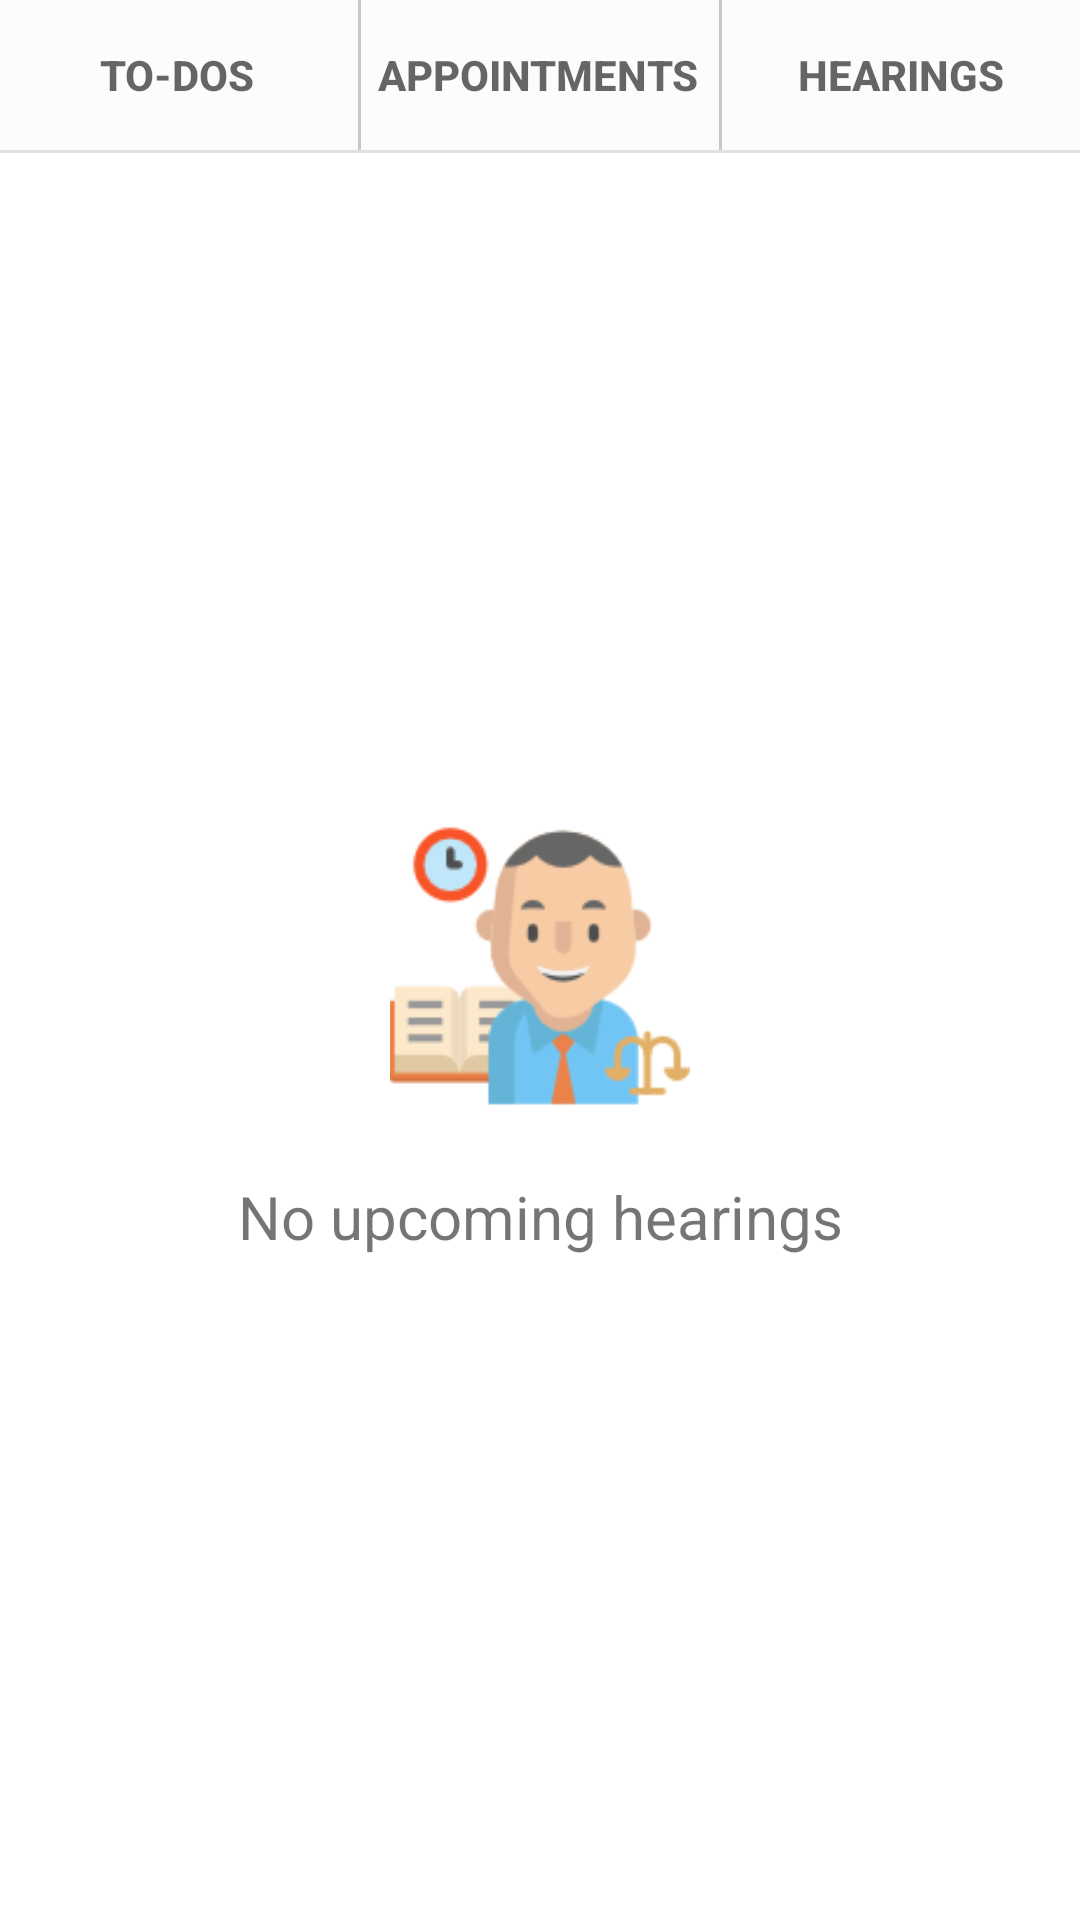

Icon click points for this 1080w x 1920h phone screenshot, format (x,y):
lawyer: (540,966)
